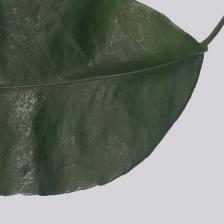healthy: (3, 0, 132, 167)
